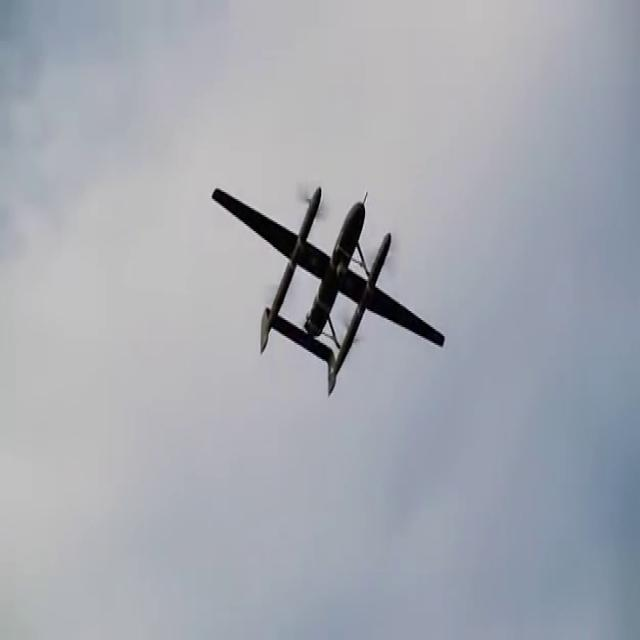iha: (206, 191, 440, 390)
